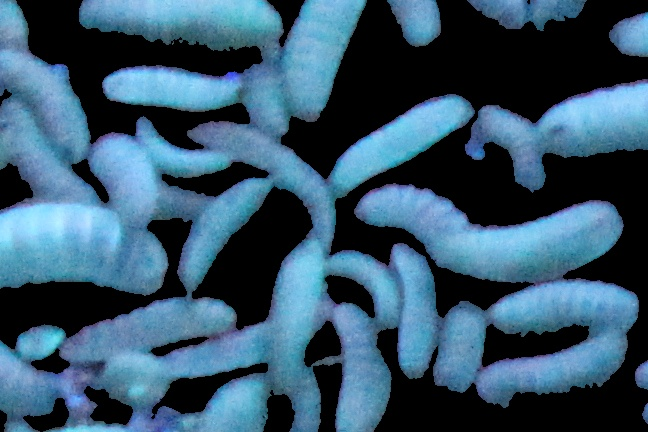larvae: (185, 124, 340, 232), (1, 201, 164, 294), (438, 198, 621, 274), (331, 97, 472, 192), (476, 330, 628, 412), (56, 297, 235, 358), (178, 174, 272, 290), (278, 1, 367, 119), (78, 1, 284, 50), (1, 50, 89, 162), (1, 101, 96, 202), (265, 236, 328, 387), (541, 79, 648, 161), (326, 306, 395, 432), (490, 281, 640, 333), (391, 244, 439, 382), (95, 65, 244, 107), (132, 116, 236, 174), (163, 324, 275, 377), (478, 105, 547, 190), (326, 250, 402, 327), (355, 185, 465, 237), (94, 134, 156, 223), (195, 366, 271, 432), (437, 298, 484, 393), (1, 344, 59, 420), (243, 58, 294, 131), (385, 1, 443, 44), (288, 371, 326, 432)
